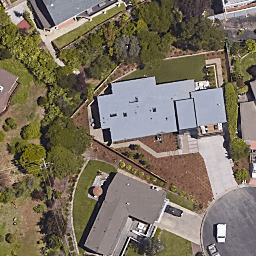car: (165, 204, 183, 217), (217, 222, 227, 243), (205, 241, 219, 256), (251, 163, 256, 178)
